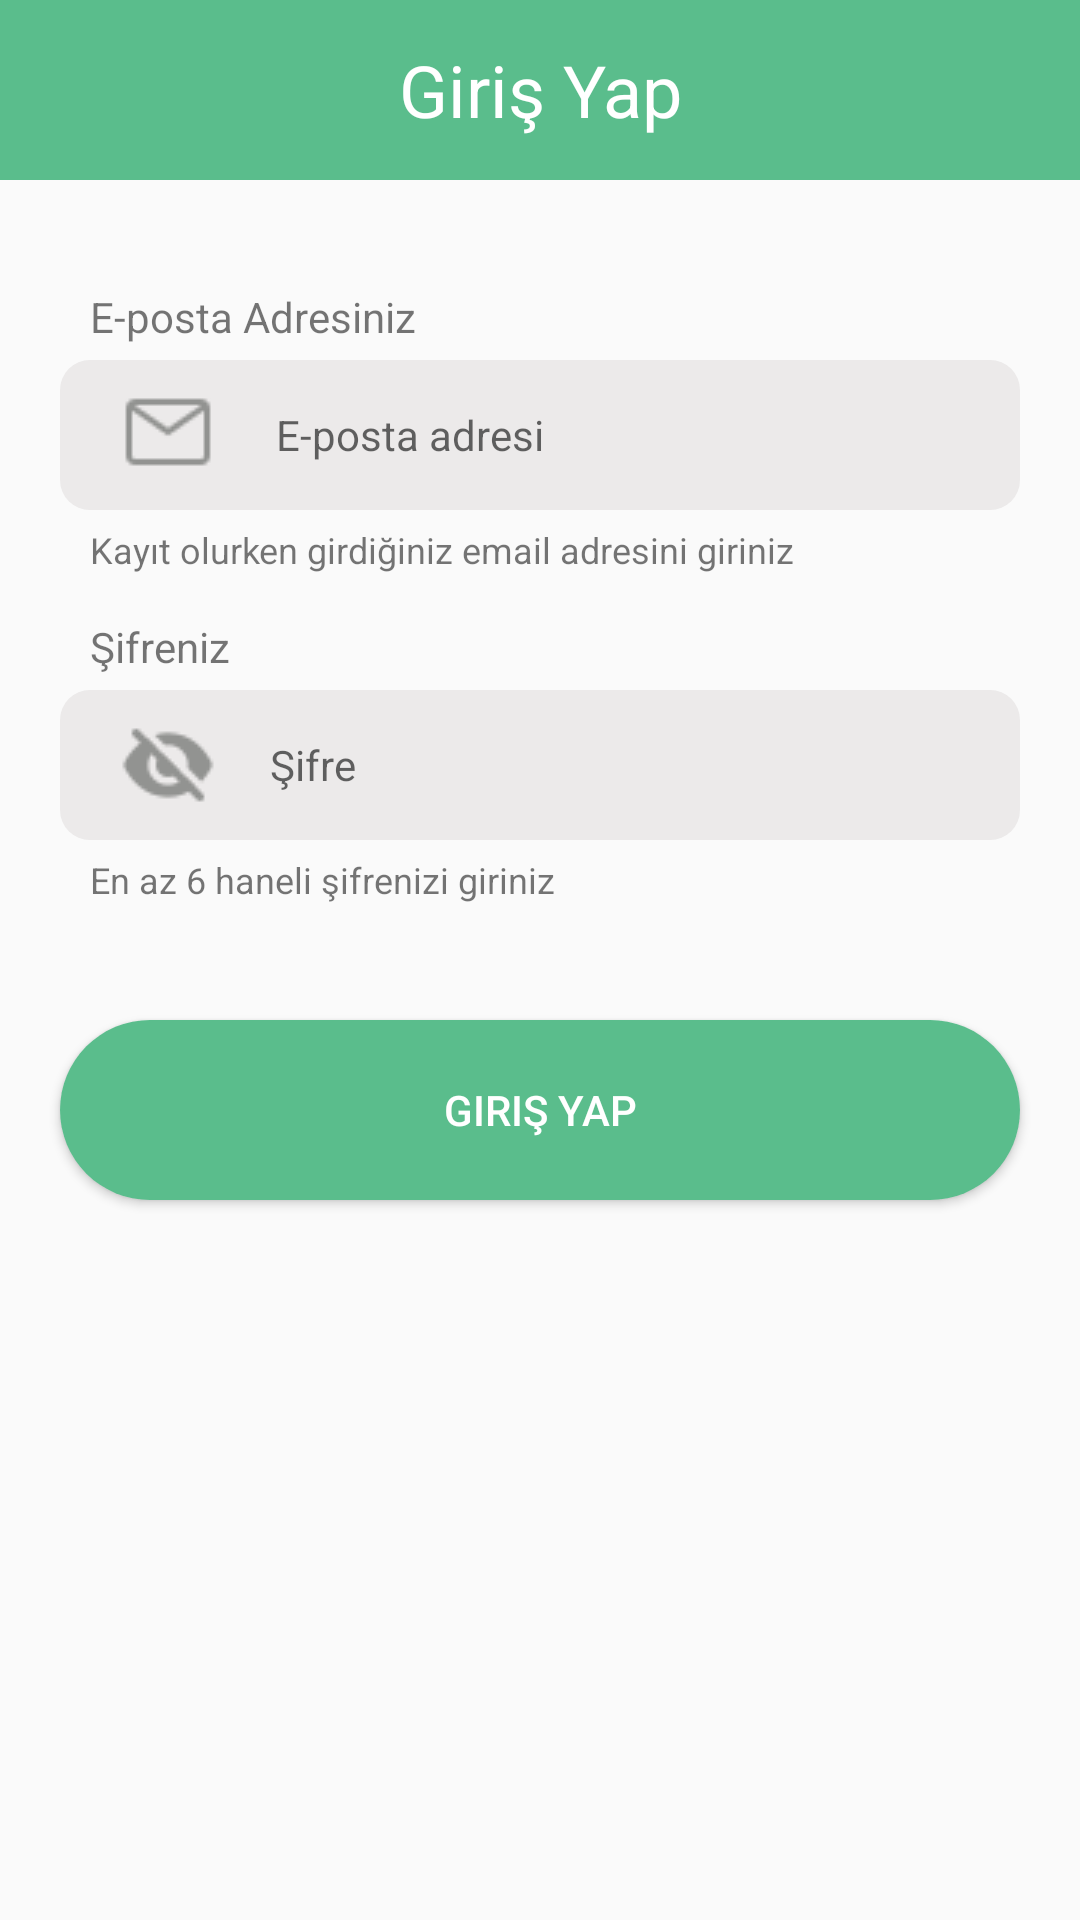

Locate icon controls on the screen. Image size 1080x1920, boxes as bbox(x1, y1, x2, y2).
hide password: bbox(123, 728, 213, 802)
